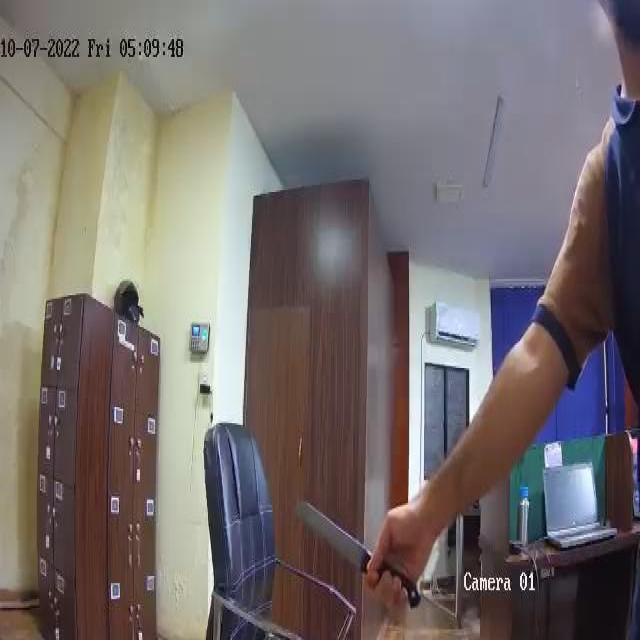faca: (291, 494, 420, 617)
